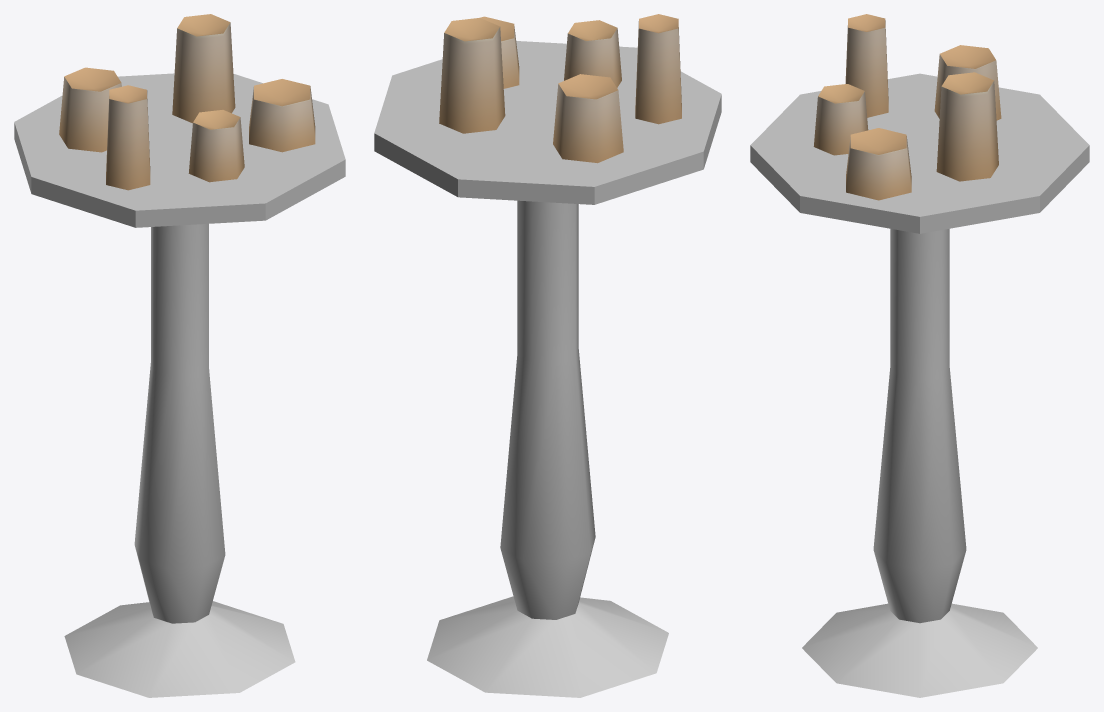
File: Stand_A.fbx
3 renders of one model, left to right at view 1: azimuth 30°, elevation 25°; view 2: azimuth 150°, elevation 25°; view 3: azimuth 270°, elevation 25°, orthographic. The views are drawn at different scales.
Parts seen in each view (by area): view 1: Stand_A; view 2: Stand_A; view 3: Stand_A.
Boxes of the visible parts, <box> form: Stand_A: <box>14,14,345,697</box>; Stand_A: <box>374,14,721,697</box>; Stand_A: <box>750,14,1089,697</box>.
Size of the model in its own units: 0.1487 by 0.2843 by 0.1487.
